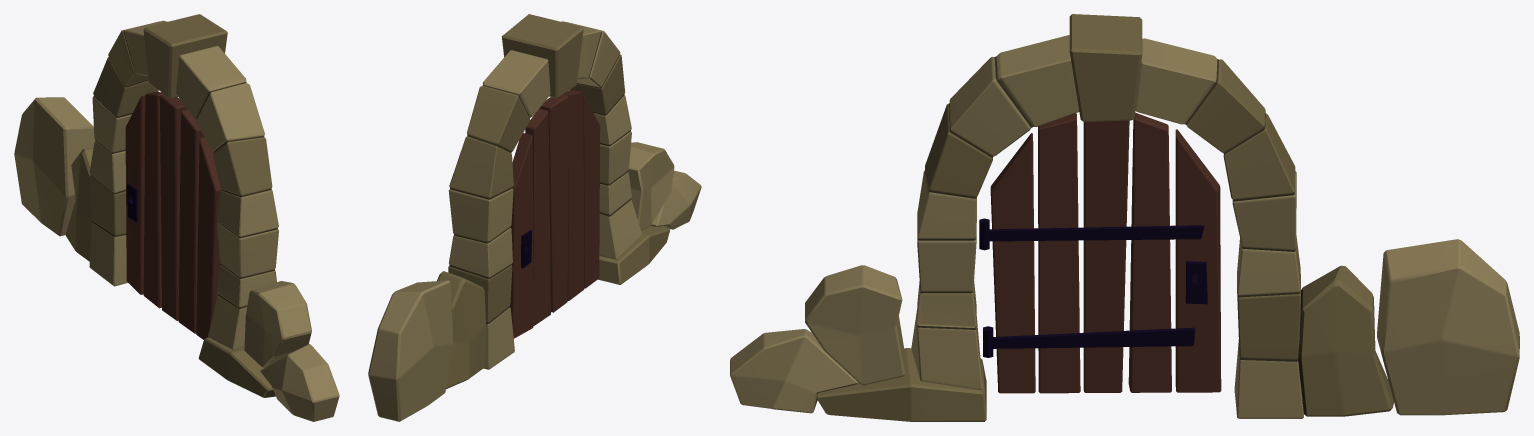
Rendered from adventure-door-closed.fbx.
3 views of the same model, side by side, from view 1: azimuth 30°, elevation 25°; view 2: azimuth 150°, elevation 25°; view 3: azimuth 270°, elevation 25° (orthographic). The views are drawn at different scales.
Parts seen in each view (by area): view 1: pCube19, pCube31, pCube38, pCube37, pCube36, pCube18, pCube21, pCube22, pCube35; view 2: pCube19, pCube31, pCube38, pCube18, pCube22, pCube37, pCube21, pCube36, pCube35; view 3: pCube19, pCube31, pCube38, pCube22, pCube37, pCube36, pCube18, pCube21, pCube33, pCube32, pCube35.
Boxes of the visible parts, box(x1,y1,x2,y2) form: pCube19: box(89, 20, 278, 350); pCube31: box(125, 92, 221, 339); pCube38: box(14, 97, 95, 236); pCube37: box(244, 281, 311, 368); pCube36: box(260, 344, 339, 421); pCube18: box(143, 14, 227, 98); pCube21: box(198, 337, 275, 397); pCube22: box(65, 147, 93, 261); pCube35: box(127, 183, 137, 222); pCube19: box(448, 21, 642, 369); pCube31: box(510, 90, 600, 338); pCube38: box(368, 280, 453, 421); pCube18: box(501, 14, 583, 98); pCube22: box(437, 271, 485, 388); pCube37: box(628, 142, 674, 230); pCube21: box(598, 225, 669, 284); pCube36: box(651, 170, 701, 229); pCube35: box(521, 230, 532, 268); pCube19: box(911, 35, 1303, 418); pCube31: box(990, 112, 1221, 393); pCube38: box(1377, 239, 1519, 415); pCube22: box(1298, 265, 1393, 416); pCube37: box(805, 265, 904, 385); pCube36: box(730, 329, 858, 413); pCube18: box(1069, 14, 1142, 121); pCube21: box(816, 348, 986, 421); pCube33: box(993, 327, 1195, 348); pCube32: box(989, 225, 1204, 241); pCube35: box(1185, 261, 1207, 304).
Size of the model in its own units: 1.13 by 4.87 by 9.31.
